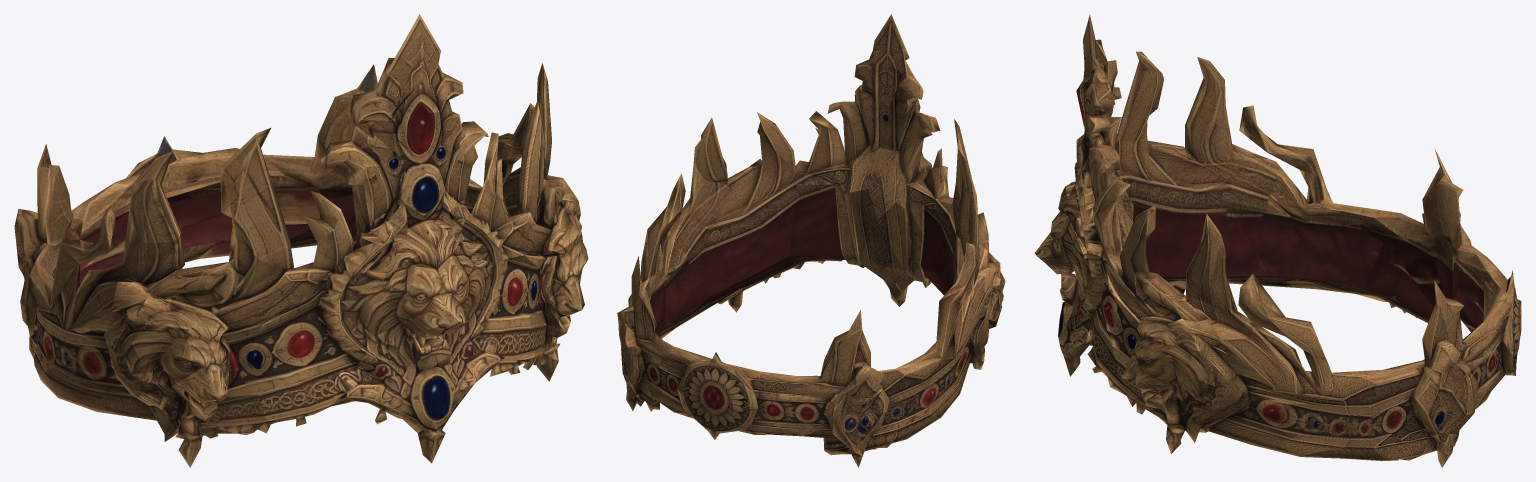
File: andhaka_crown.glb
3 views of the same model, side by side, from view 1: azimuth 30°, elevation 25°; view 2: azimuth 150°, elevation 25°; view 3: azimuth 270°, elevation 25° (orthographic). The views are drawn at different scales.
Visible parts, largest first — view 1: Mesh_0; view 2: Mesh_0; view 3: Mesh_0.
Boxes of the visible parts, x1=… form: Mesh_0: x1=14, y1=14, x2=588, y2=467; Mesh_0: x1=617, y1=14, x2=1005, y2=467; Mesh_0: x1=1034, y1=14, x2=1521, y2=467.
Size of the model in its own units: 0.4399 by 0.4294 by 0.4888.
Materials: 1 (1 with a texture image).
